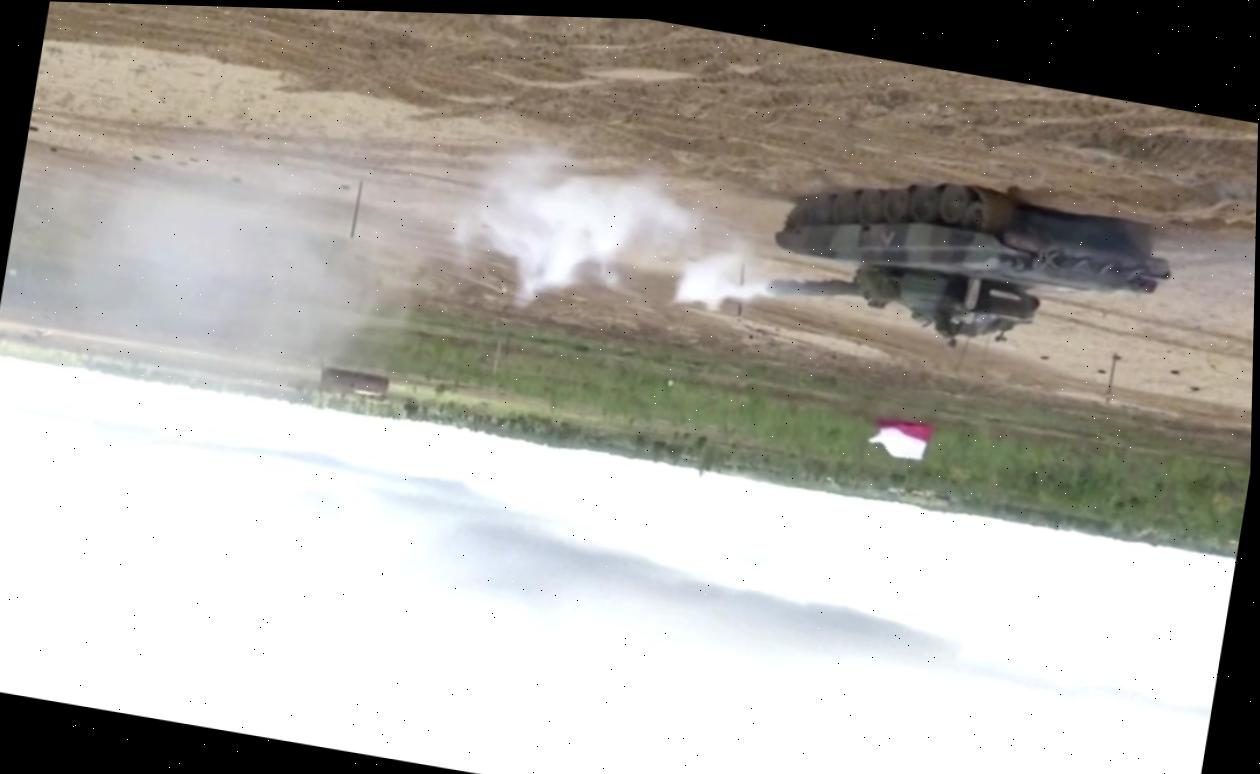tank: (757, 148, 1183, 383)
